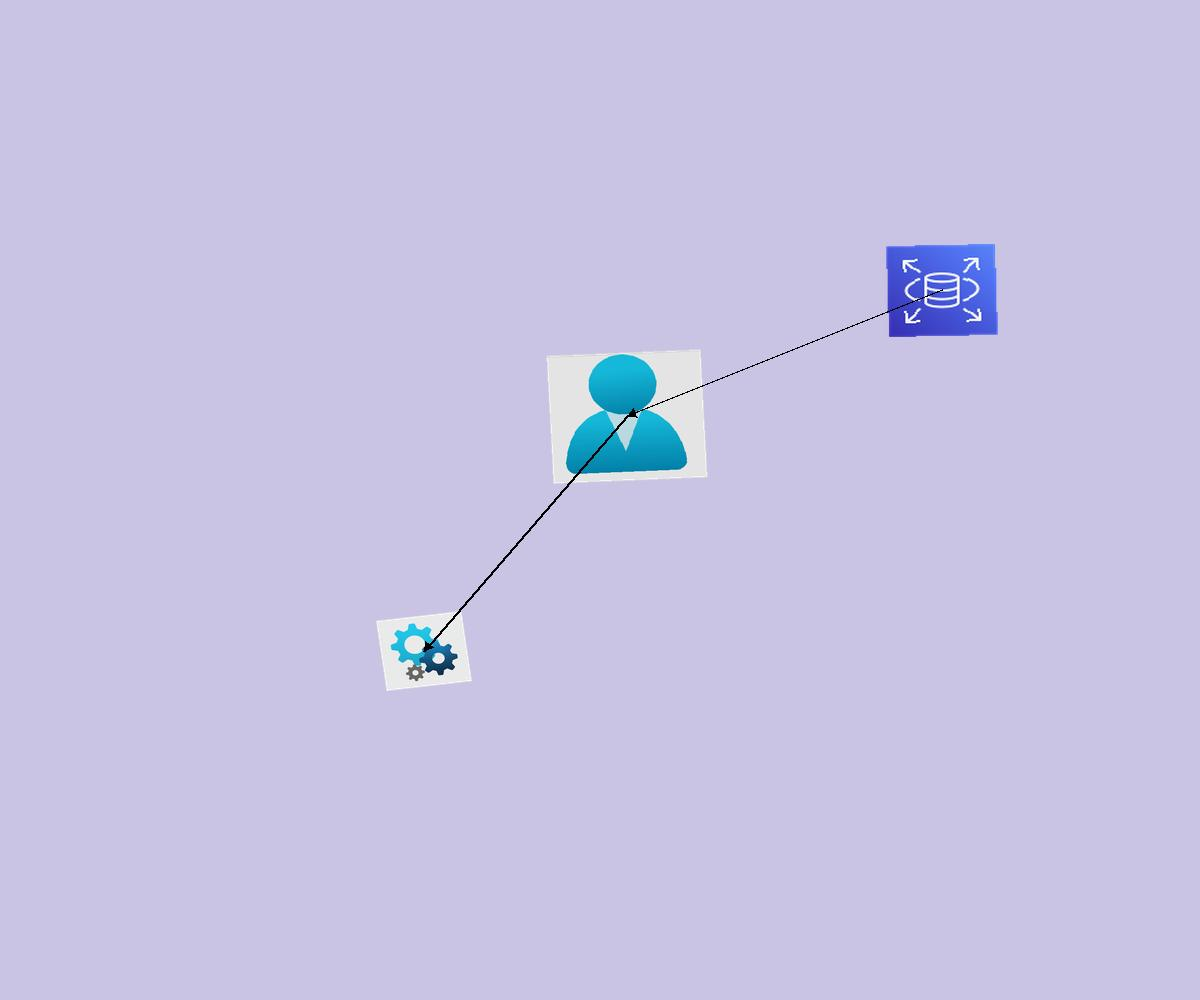AWS-RDS: (885, 243, 999, 338)
Azure_api: (376, 611, 472, 691)
Azure_users: (546, 349, 708, 484)
